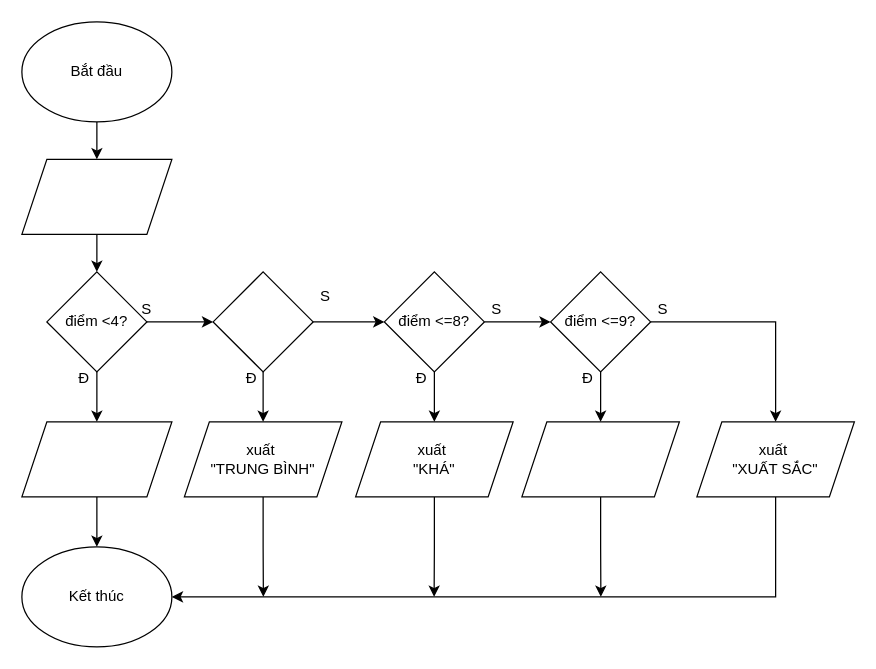
Image size: 876x669. Some labels were removed from this diagram. Each missing label, with the box of its shape:
nhập điểm: (21, 158, 172, 234)
xuất "GIỎI": (521, 421, 679, 497)
xuất "KHÔNG ĐẠT": (21, 421, 172, 497)
điểm <=6?: (212, 271, 313, 372)
